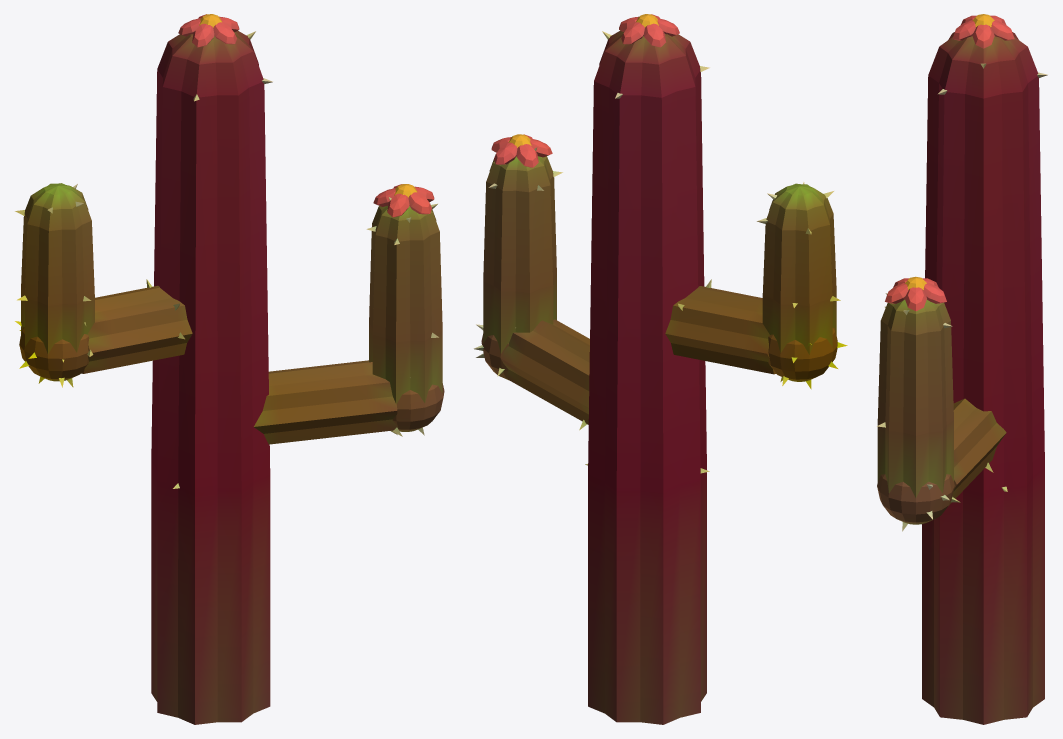
File: Cactus_Saguaro_01.glb
3 views of the same model, side by side, from view 1: azimuth 30°, elevation 25°; view 2: azimuth 150°, elevation 25°; view 3: azimuth 270°, elevation 25° (orthographic).
Parts seen in each view (by area): view 1: Cactus_Saguaro_01; view 2: Cactus_Saguaro_01; view 3: Cactus_Saguaro_01.
Boxes of the visible parts, x1=… form: Cactus_Saguaro_01: x1=15, y1=14, x2=444, y2=724; Cactus_Saguaro_01: x1=473, y1=14, x2=847, y2=724; Cactus_Saguaro_01: x1=877, y1=14, x2=1047, y2=724.
Size of the model in its own units: 2.05 by 3.45 by 0.7838.
